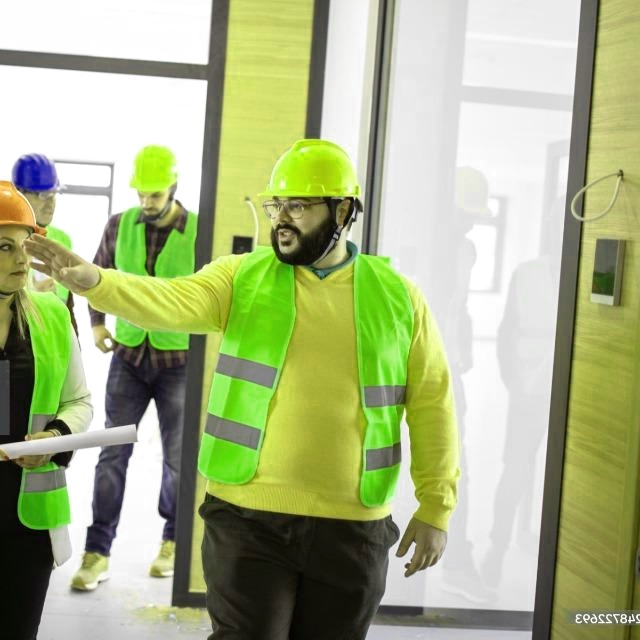Con_Casco: (258, 138, 362, 268)
Con_Chaleco: (195, 252, 406, 504), (108, 205, 200, 351)
